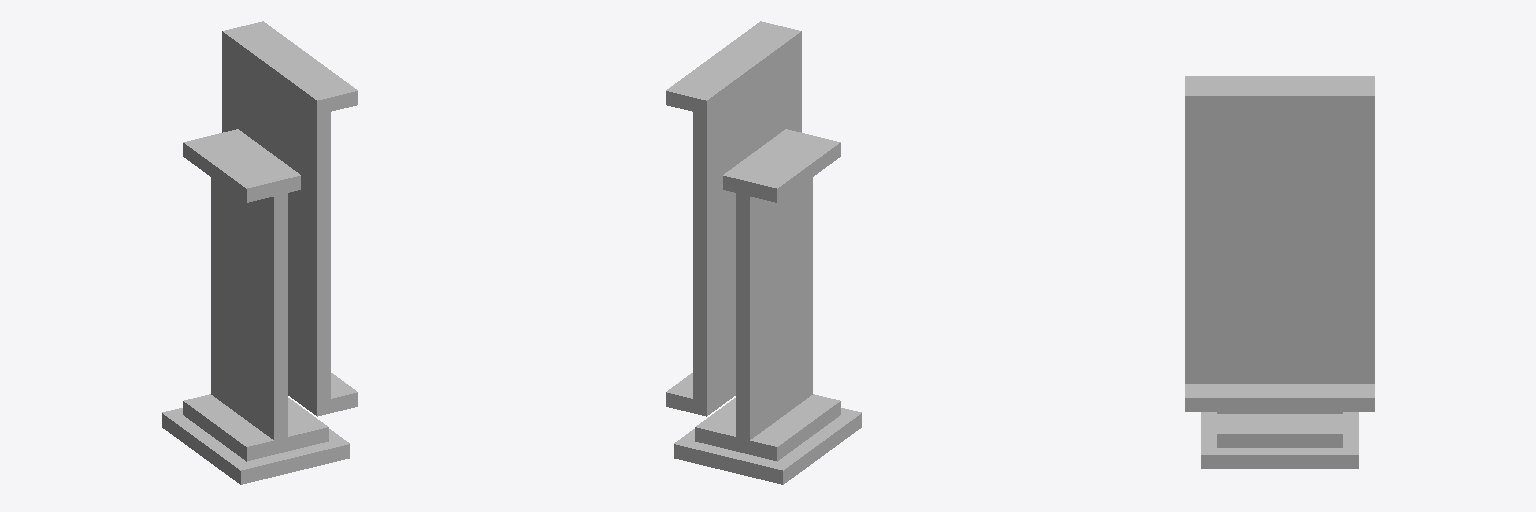
Rendered from item.obj.
3 views of the same model, side by side, from view 1: azimuth 30°, elevation 25°; view 2: azimuth 150°, elevation 25°; view 3: azimuth 270°, elevation 25° (orthographic).
Visible parts, largest first — view 1: object 1; view 2: object 1; view 3: object 1.
Part boxes in pixels (x1,y1,x2,y2): object 1: (162, 21, 357, 484); object 1: (666, 21, 861, 484); object 1: (1185, 76, 1374, 468).
Size of the model in its own units: 0.8 by 2.6 by 1.2.